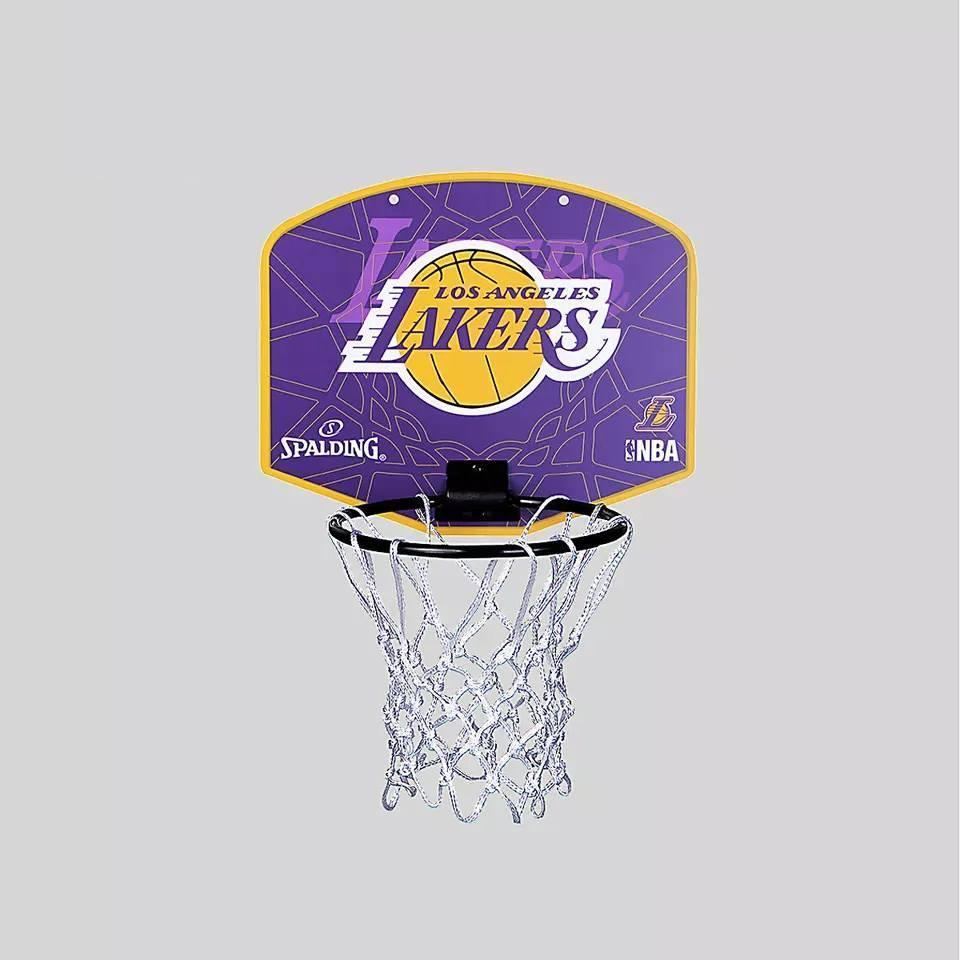rim: (326, 496, 630, 826)
